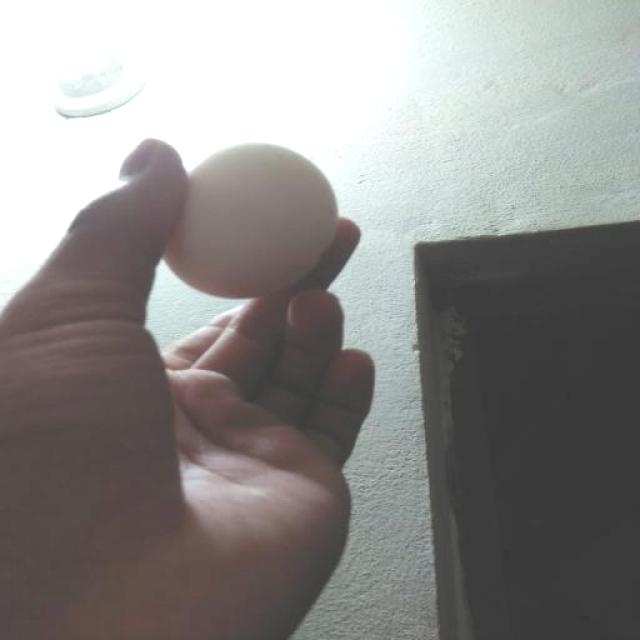telur: (164, 142, 338, 298)
